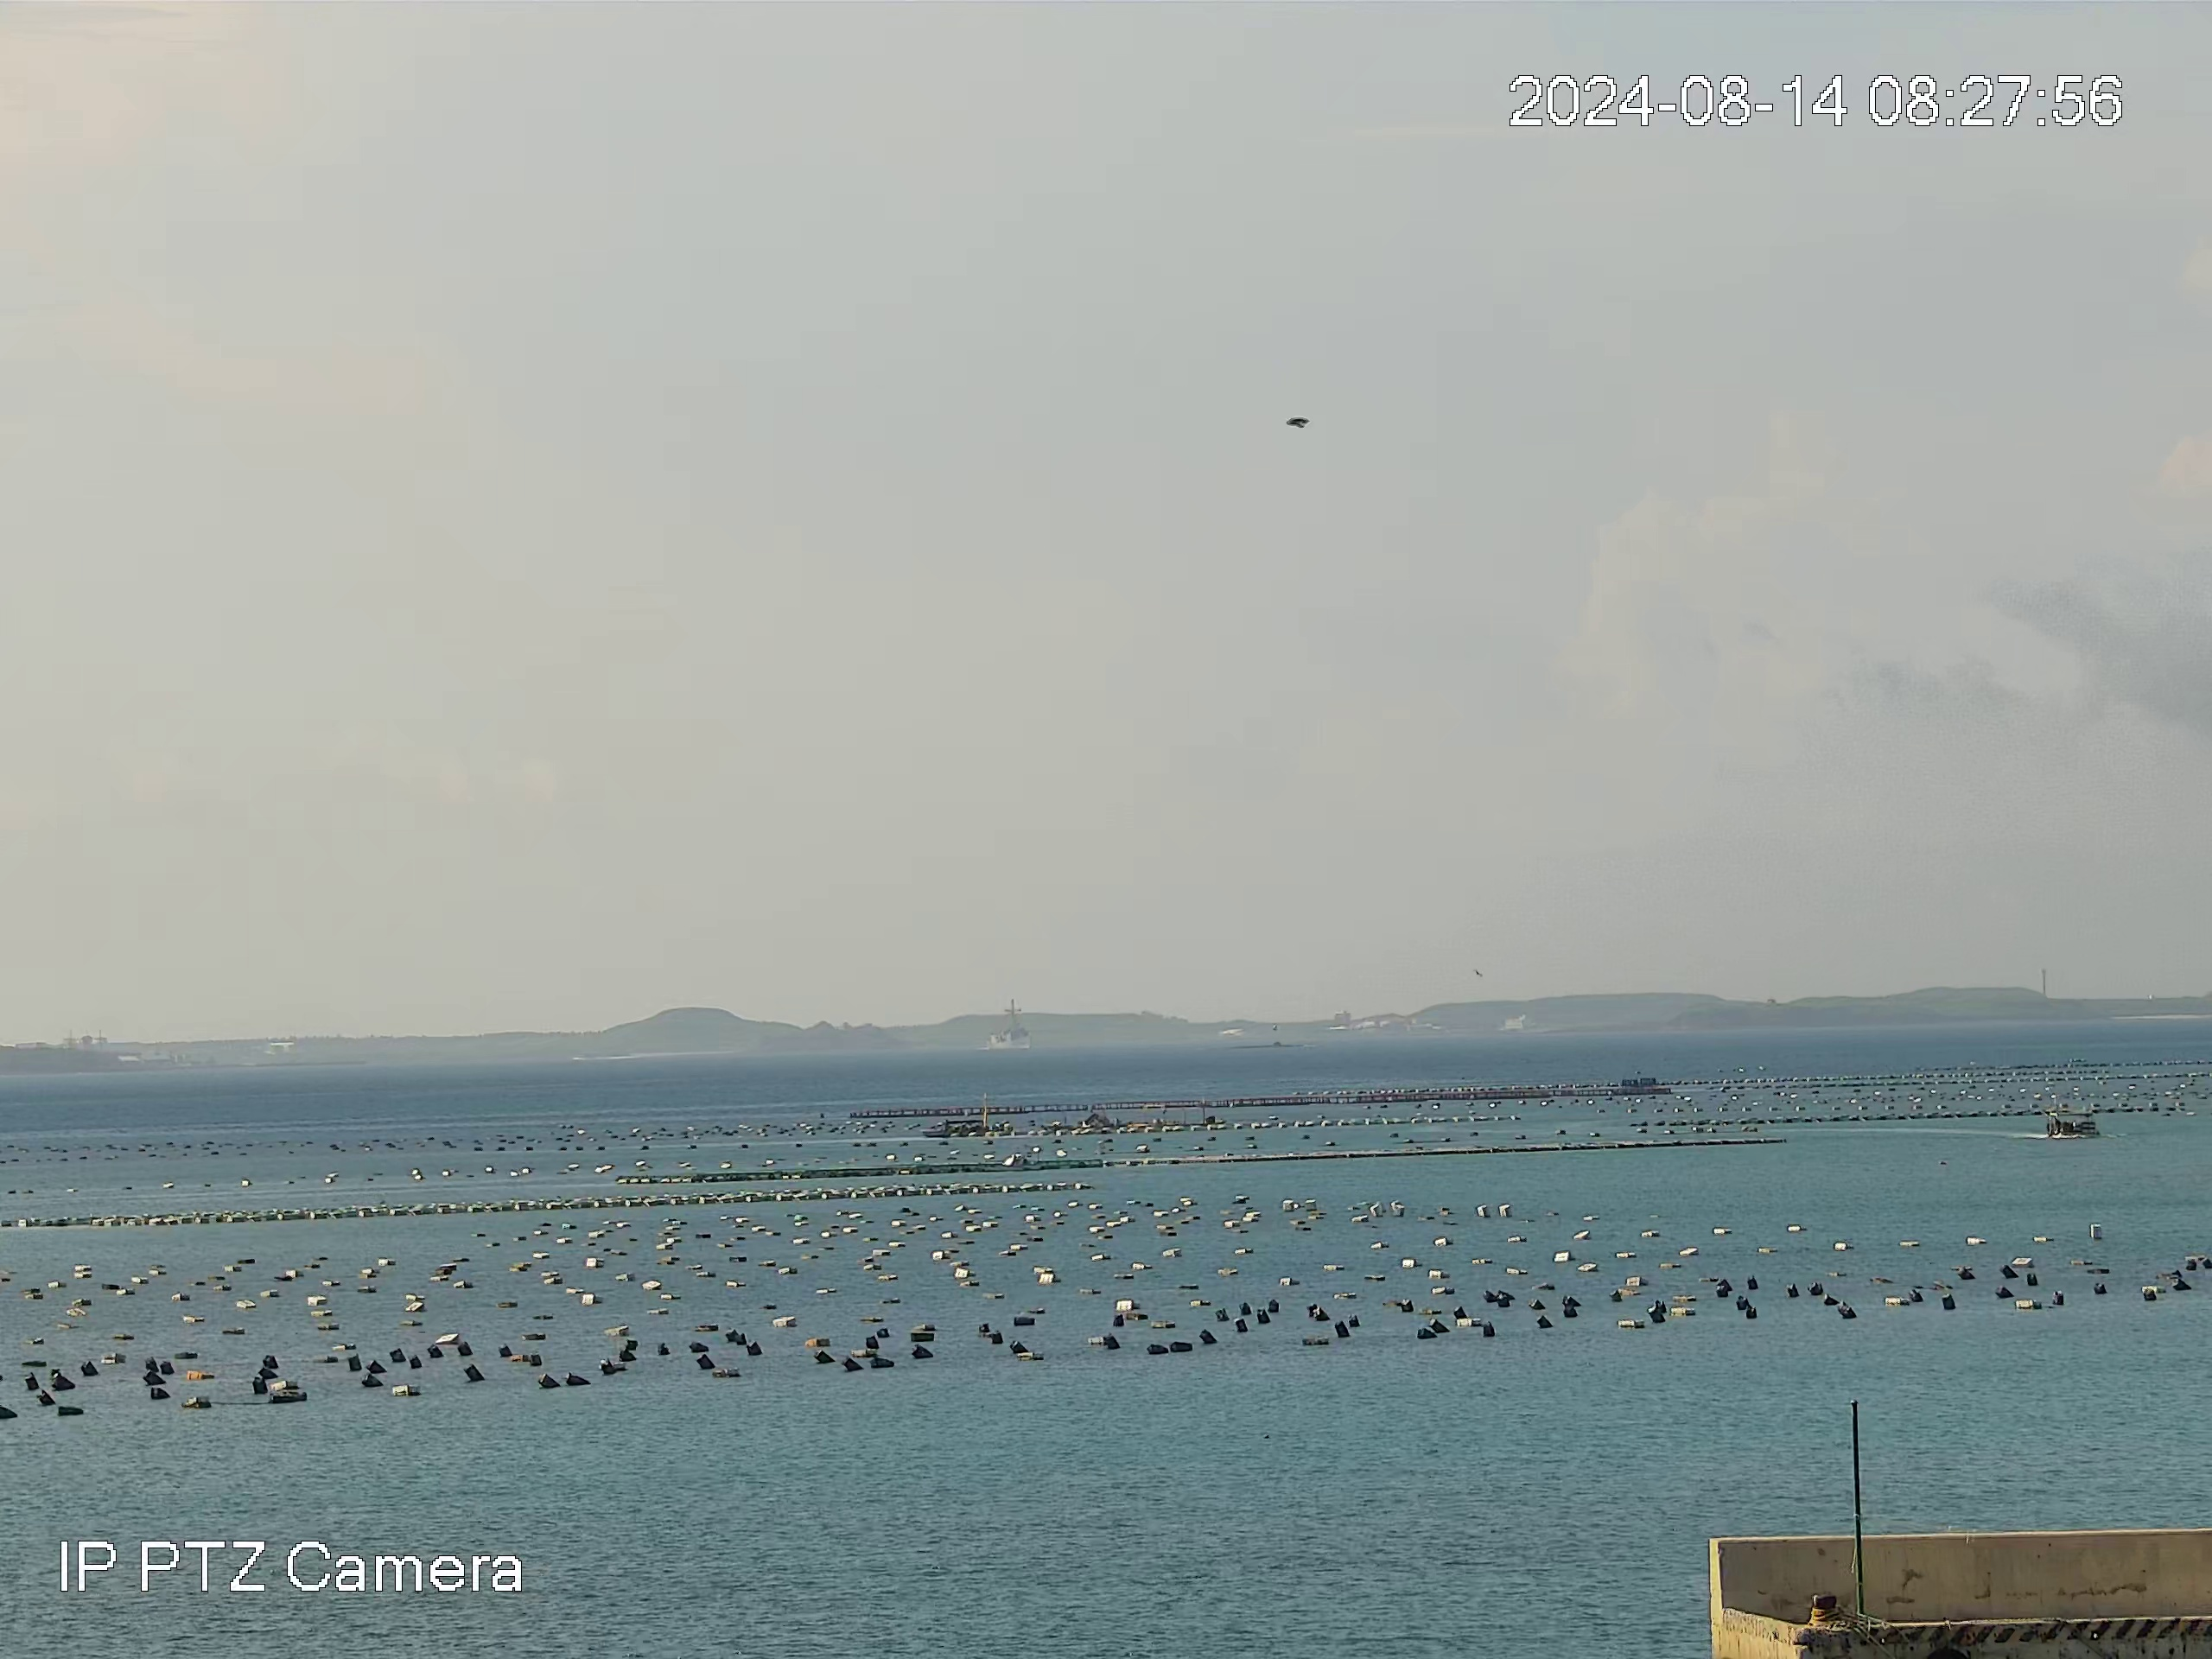boat: (2044, 1103, 2107, 1141), (922, 1116, 989, 1139)
